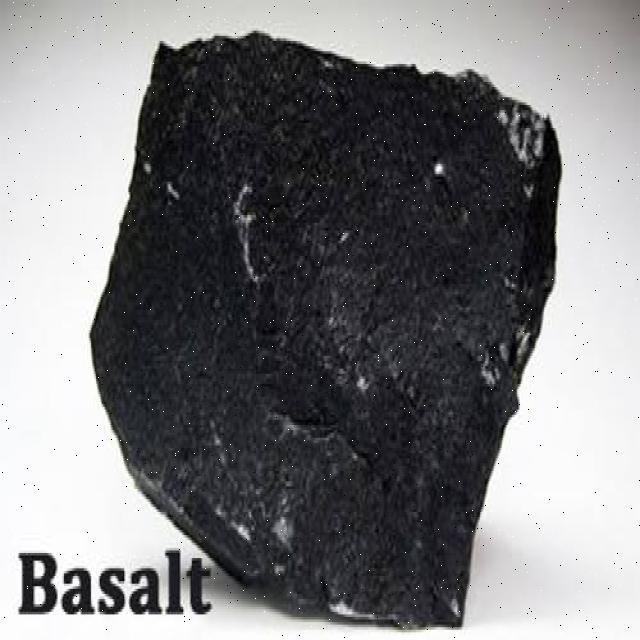Igneous: (101, 18, 542, 627)
